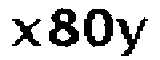0: (81, 6, 116, 51)
8: (47, 6, 80, 51)
x: (7, 16, 43, 51)
y: (116, 17, 147, 60)
